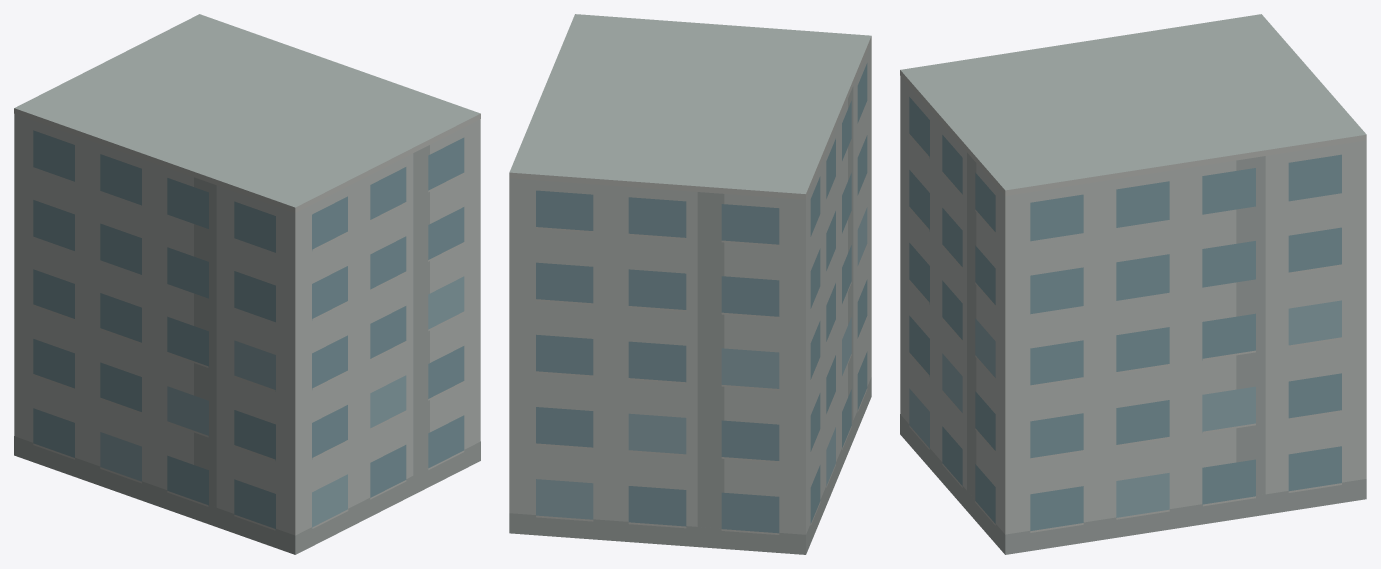
File: survey-upis-32614155.glb
The picture shows the model from 3 angles, left to right: view 1: azimuth 30°, elevation 25°; view 2: azimuth 150°, elevation 25°; view 3: azimuth 270°, elevation 25°; orthographic projection. The views are drawn at different scales.
Parts seen in each view (by area): view 1: survey-upis-32614155.tmp; view 2: survey-upis-32614155.tmp; view 3: survey-upis-32614155.tmp.
Boxes of the visible parts, x1=… form: survey-upis-32614155.tmp: x1=14, y1=14, x2=480, y2=554; survey-upis-32614155.tmp: x1=509, y1=14, x2=871, y2=554; survey-upis-32614155.tmp: x1=900, y1=14, x2=1366, y2=554.
Bounding box in the file's own units: 16.04 × 15.45 × 17.93.
